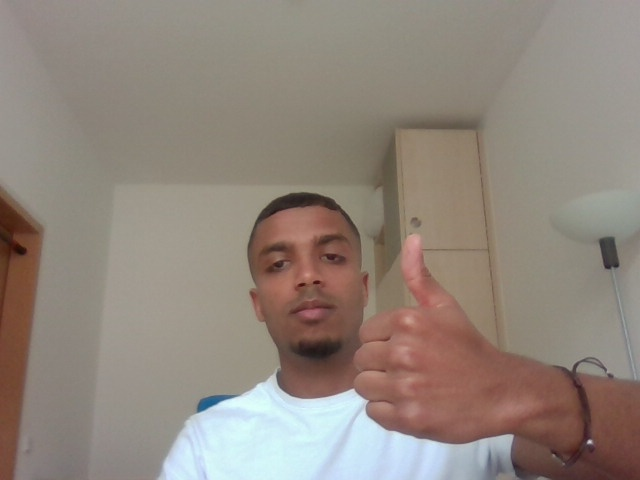yes: (344, 225, 534, 465)
